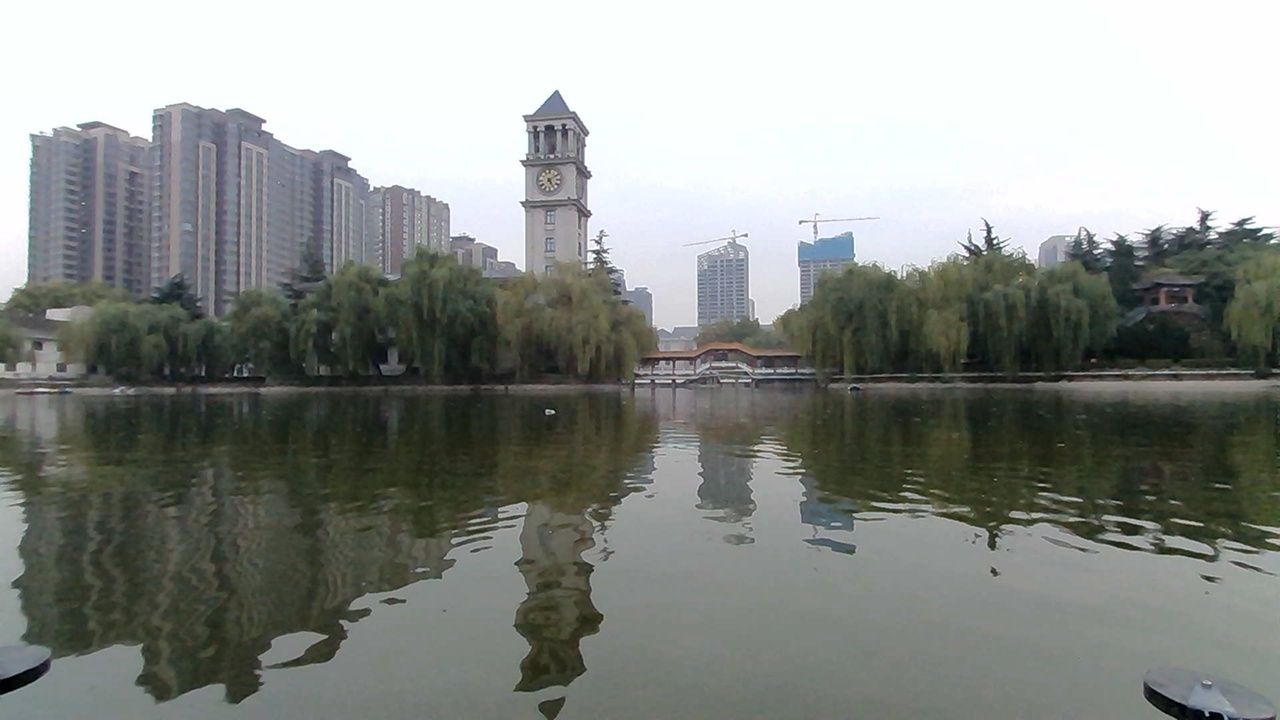bottle: (533, 402, 564, 423)
